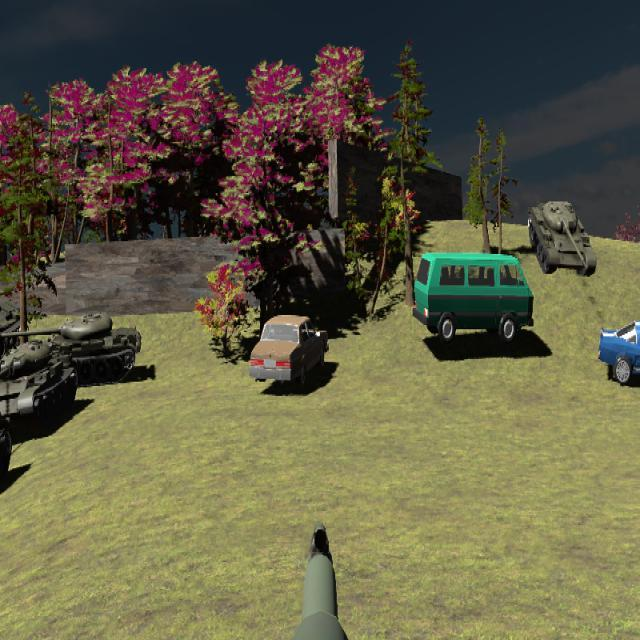Tank: (0, 311, 142, 386), (0, 342, 77, 436), (528, 201, 596, 278)
car: (413, 251, 534, 344), (249, 313, 329, 392), (598, 318, 640, 392)
